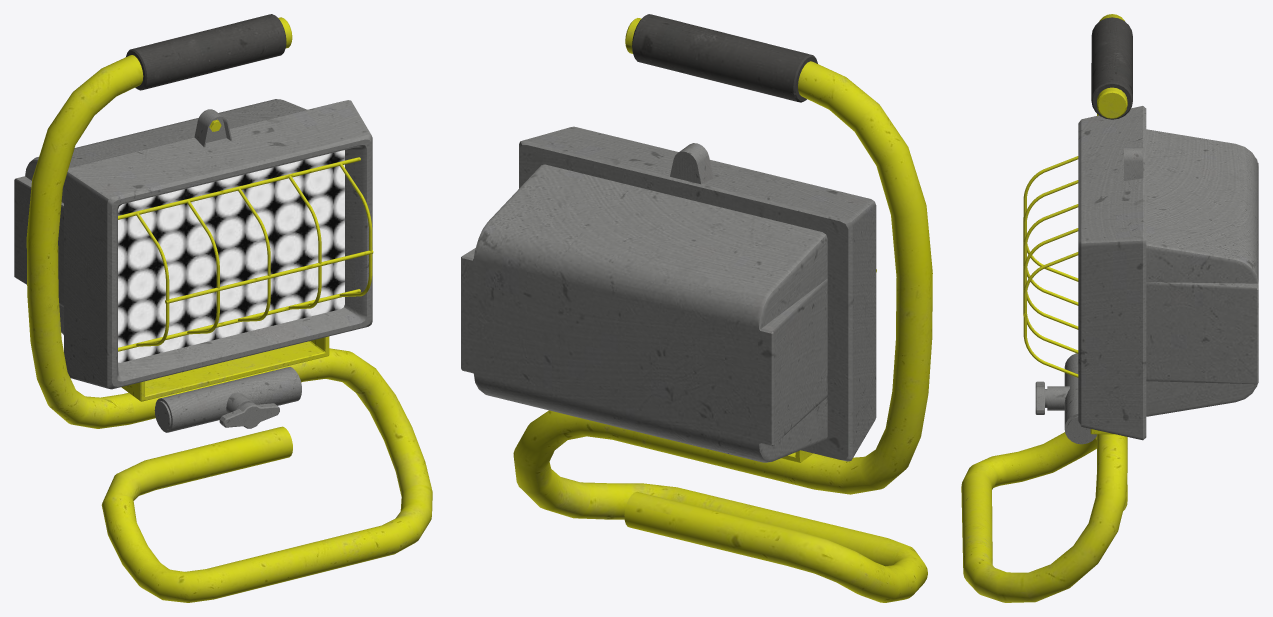
The model's file is SM_Portable_Floodlight.glb.
3 renders of one model, left to right at view 1: azimuth 30°, elevation 25°; view 2: azimuth 150°, elevation 25°; view 3: azimuth 270°, elevation 25°, orthographic. The views are drawn at different scales.
Visible parts, largest first — view 1: SM_Portable_Floodlight; view 2: SM_Portable_Floodlight; view 3: SM_Portable_Floodlight.
Boxes of the visible parts, box(x1,y1,x2,y2) form: SM_Portable_Floodlight: box(14, 14, 432, 602); SM_Portable_Floodlight: box(461, 14, 932, 602); SM_Portable_Floodlight: box(961, 14, 1258, 602).
Bounding box in the file's own units: 0.2272 × 0.2932 × 0.1637.
Materials: 4 (4 with a texture image).
